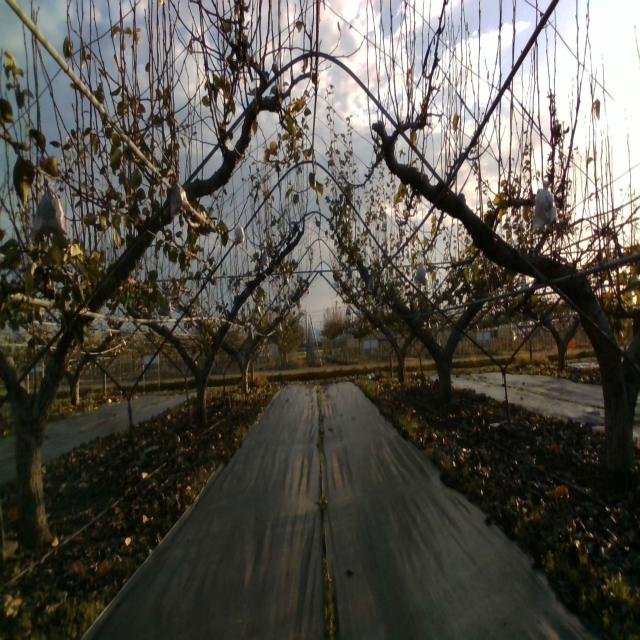pearbags: (32, 179, 68, 237), (532, 182, 558, 229), (170, 180, 191, 218), (414, 260, 426, 284)
